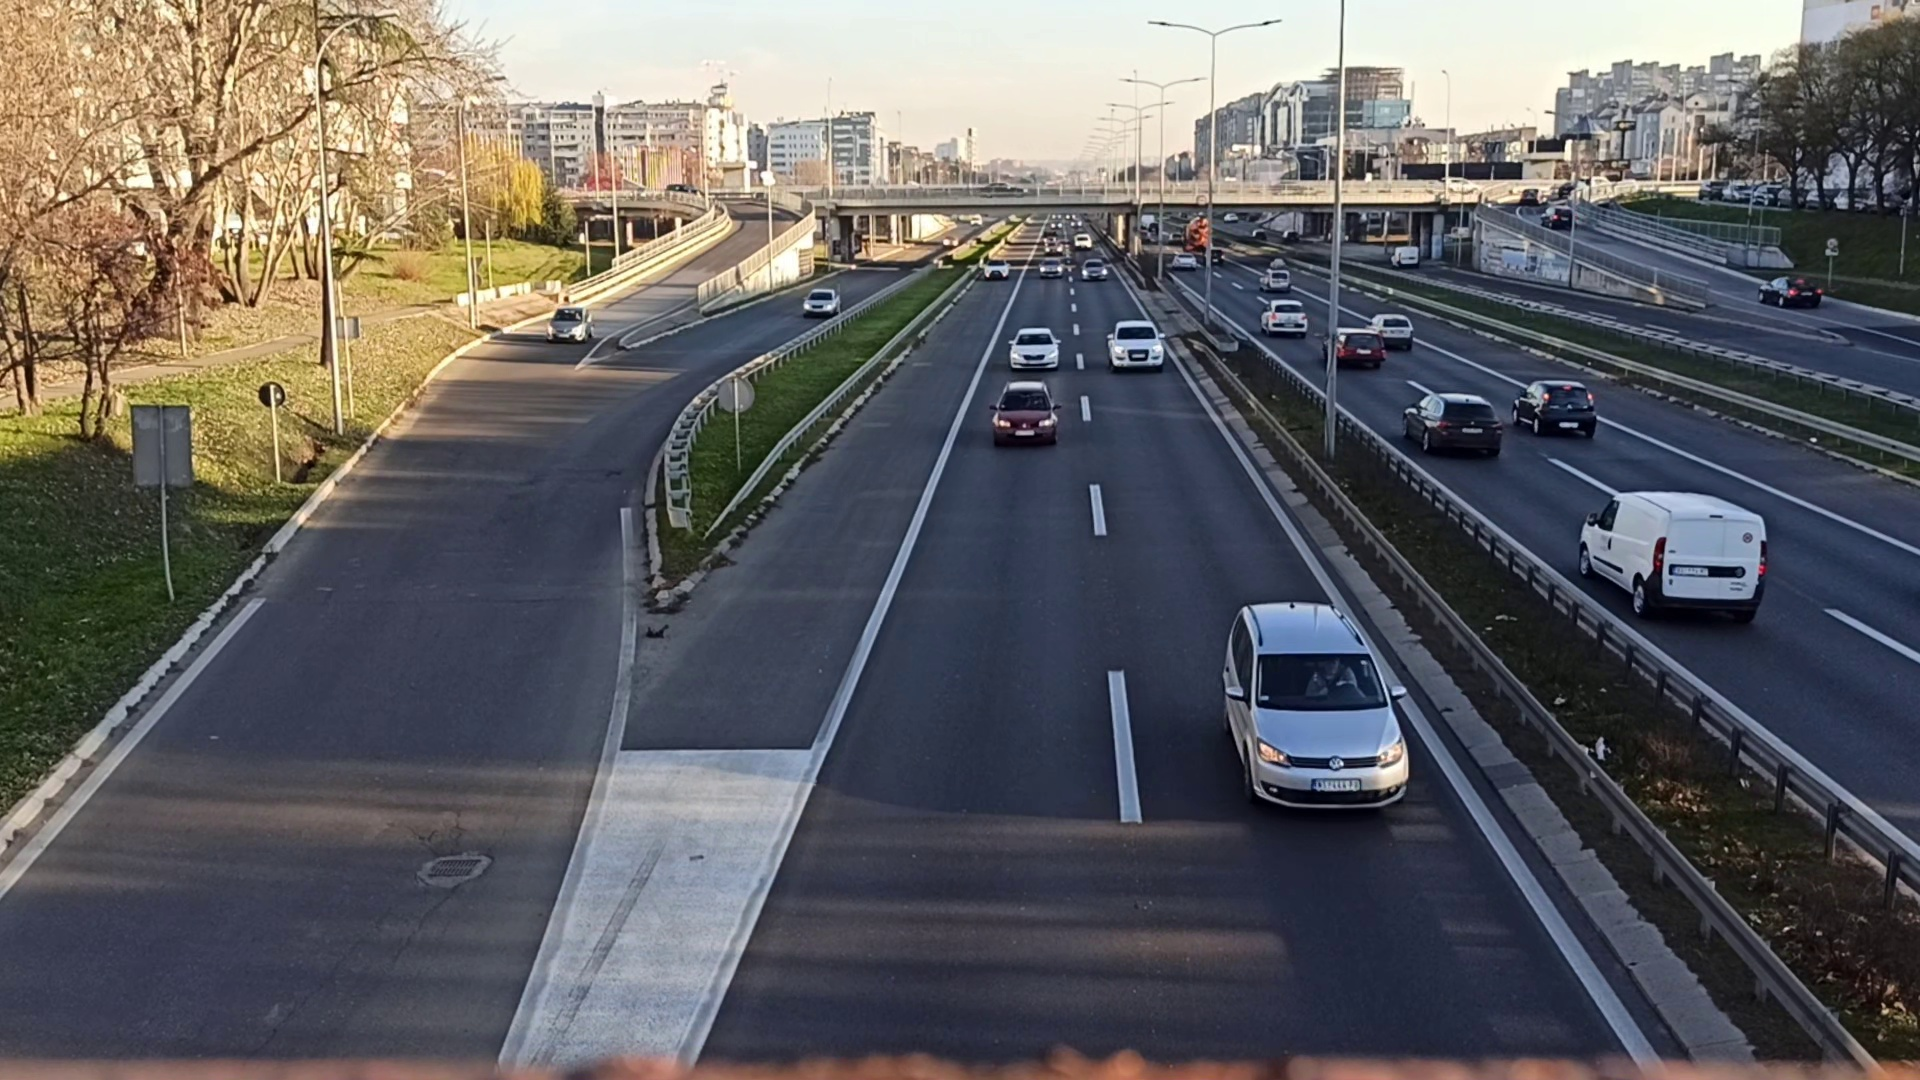car: (1216, 600, 1411, 816), (1404, 390, 1501, 462), (1506, 373, 1600, 440), (996, 380, 1059, 448), (1109, 316, 1164, 375), (1005, 328, 1062, 368), (546, 307, 592, 343), (804, 287, 840, 316)
van: (1578, 487, 1768, 624)
